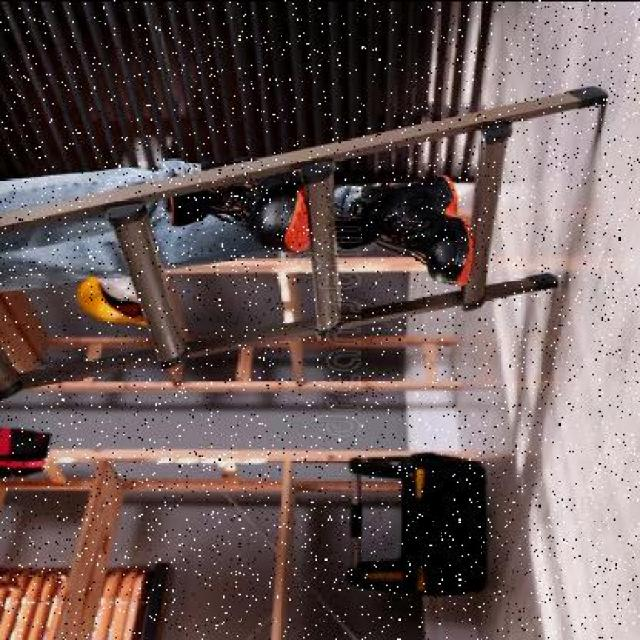shoes: (338, 169, 472, 273), (188, 150, 310, 244)
